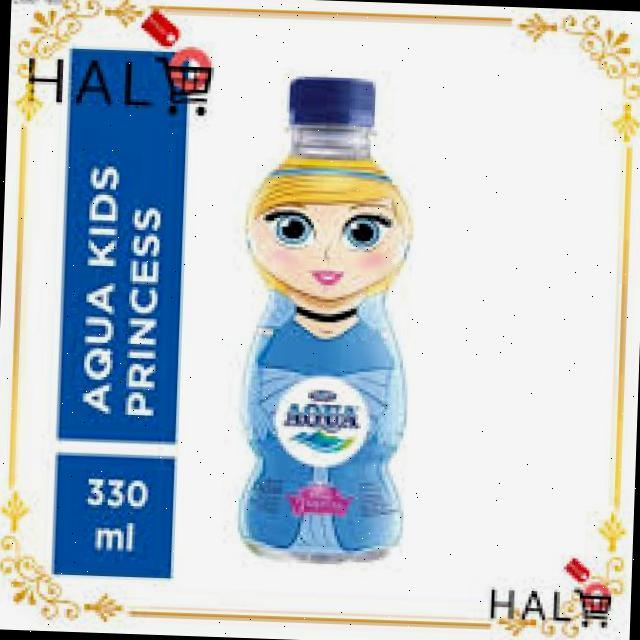bottle: (214, 62, 454, 570)
cap: (288, 76, 376, 128)
